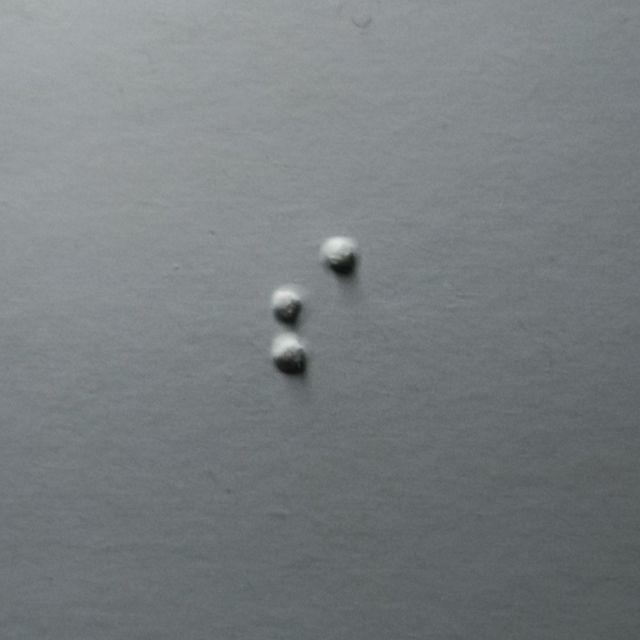sang-ayon: (269, 237, 358, 378)
